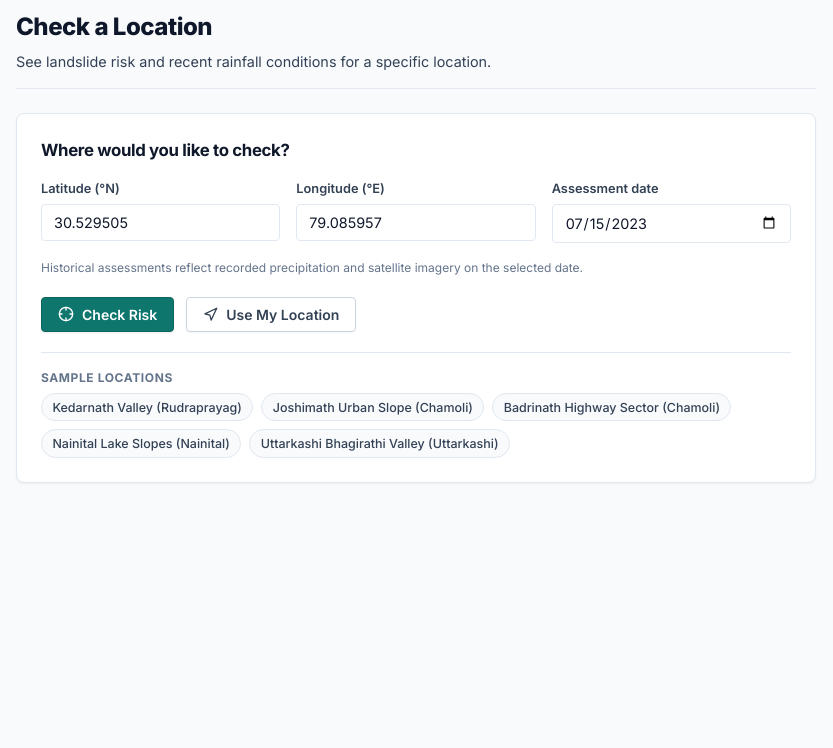
it: Check a Location (/assess) Page Refactor › rejects unsupported out-of-envelope location and clears stale results
This screenshot has width=833, height=748.
// Change to Delhi (28.6139, 77.2090) which is west of 77.40E
Replace the text in the number field with placeholder "e.g. 30.5295" below "Latitude (°N)" with "25.0000" at coordinates (161, 222), box [41,204,280,241]
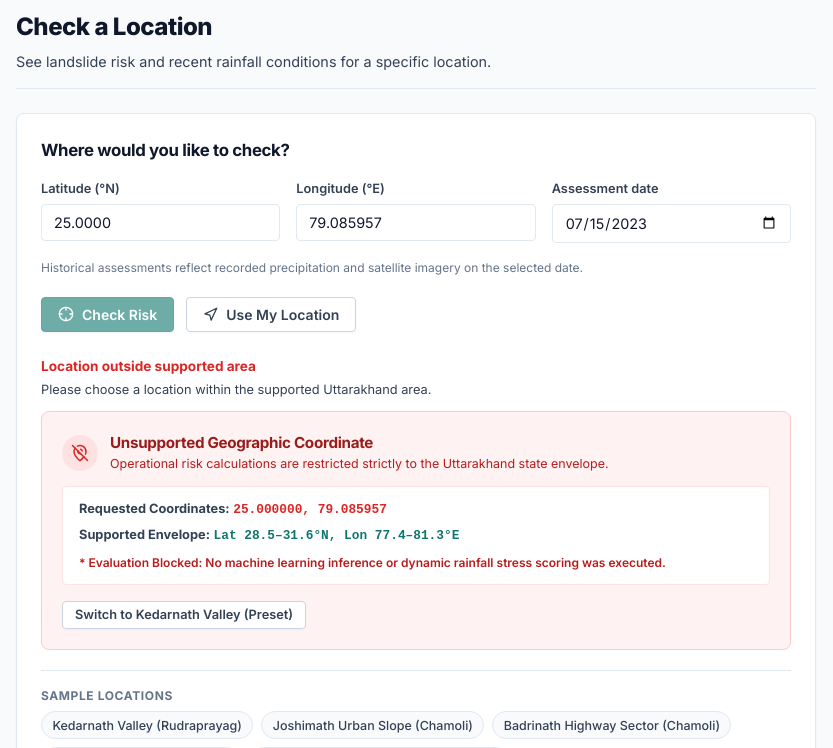
Check: the text "Location outside supported area" is shown, box [41,358,256,374]
Check: the text "Please choose a location within the supported Uttarakhand area." is shown, box [41,382,431,397]
Check: the button "Check Risk" is disabled, box [41,297,174,332]
